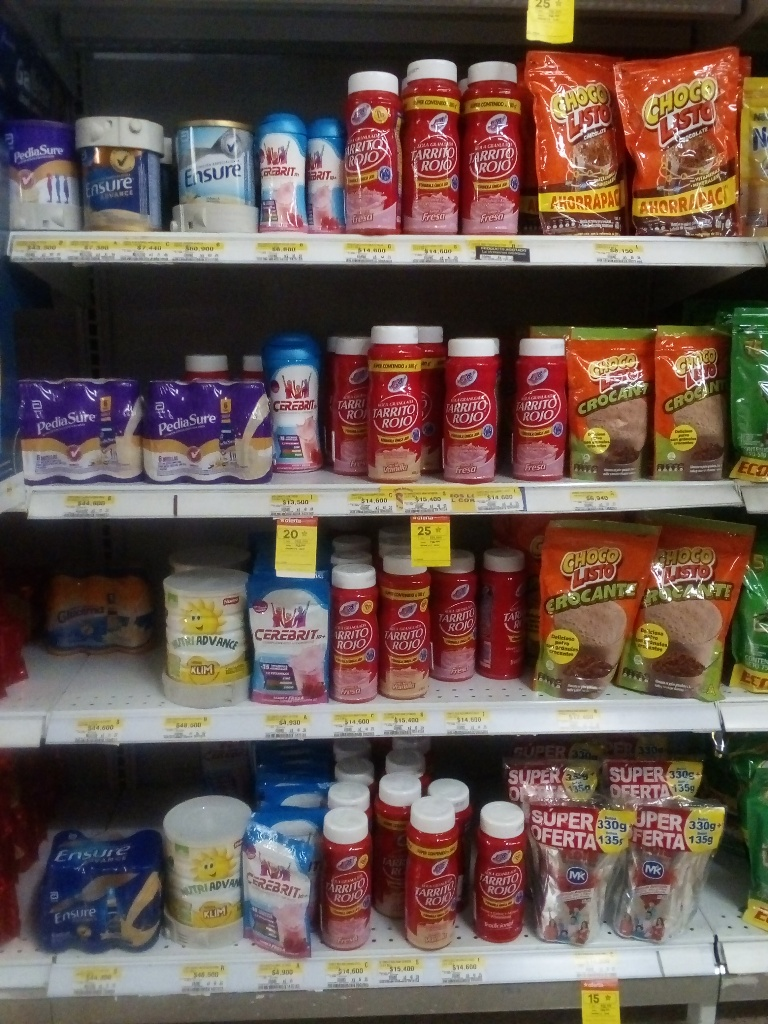COL0170102DYP25000: (561, 316, 653, 489)
COL0170102DYP50000: (529, 511, 663, 706)
COL0170103DYP36000: (525, 46, 638, 237)
